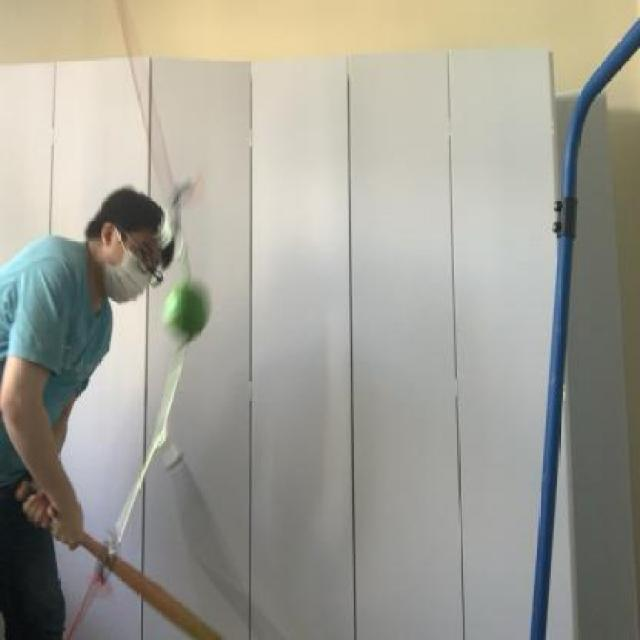baseball: (163, 277, 220, 351)
